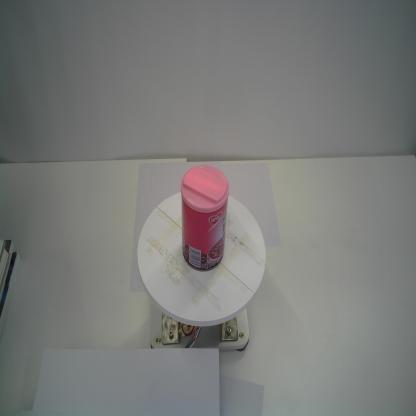Canned Food: (180, 164, 230, 272)
